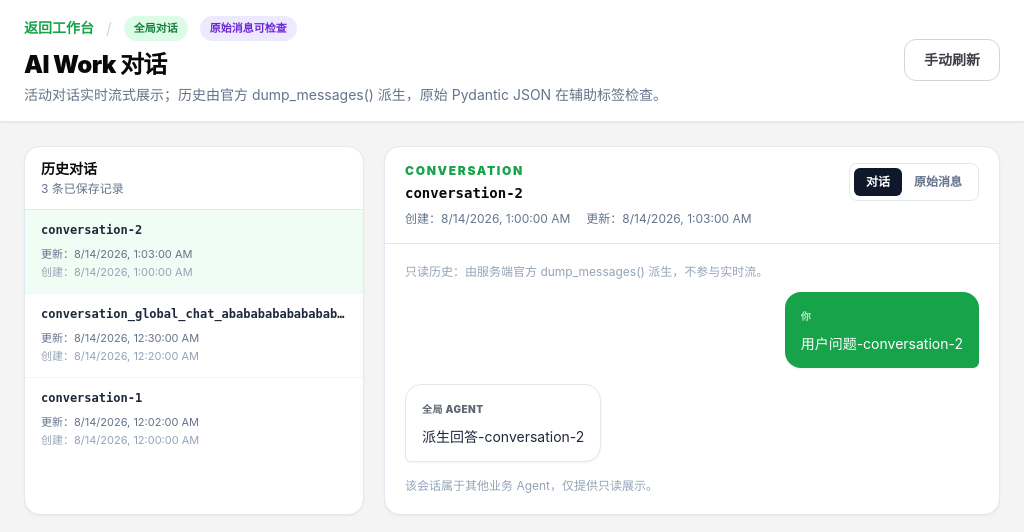
AiWorkView 对话与历史 › messages 不是数组时在原始消息标签显示 JSON 验证错误
Click the tab with test id "ai-work-view-raw-tab": click(938, 182) [902,168,974,196]
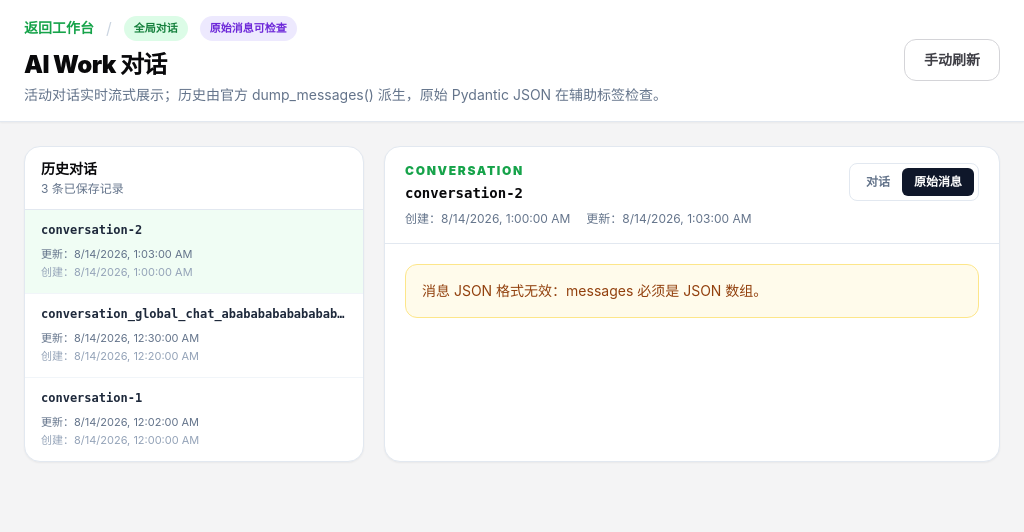
Expected: the message with test id "ai-work-json-error" reads "消息 JSON 格式无效：messages 必须是 JSON 数组。", [422,282,767,298]
